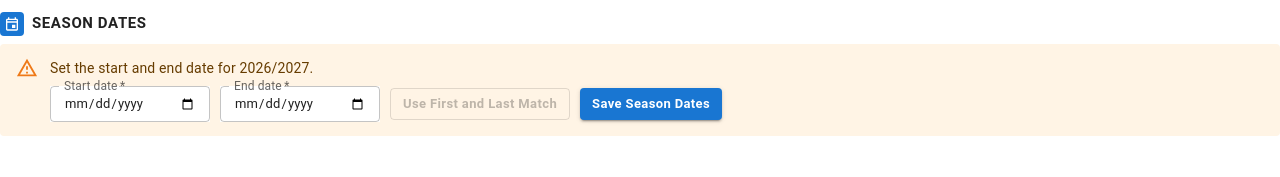
Test: LeagueSeasonDatesBlock (docs/specs/111) › shows the amber banner when no dates exist, and requires both dates
Expected: the message with test id "season-dates-banner" shows "Set the start and end date for 2026/2027.", [0,44,1279,136]
Click the button "Save Season Dates". click: (651, 104)
box: [580,88,722,120]
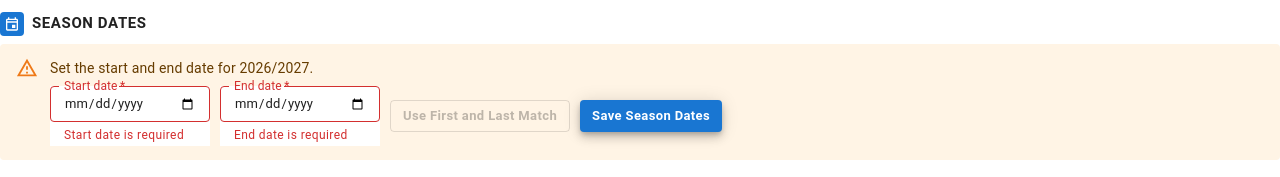
Result: the text "Start date is required" is shown at [64,126,196,146]
Result: the text "End date is required" is shown at [234,126,366,146]
